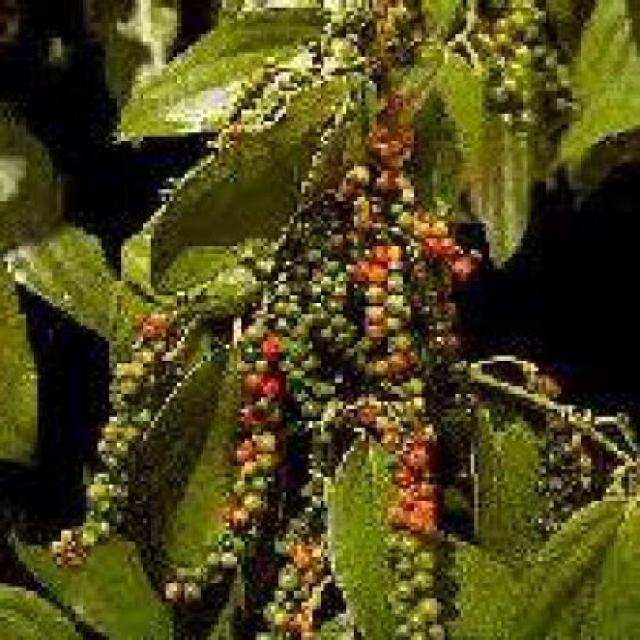RIPE: (358, 189, 449, 549)
